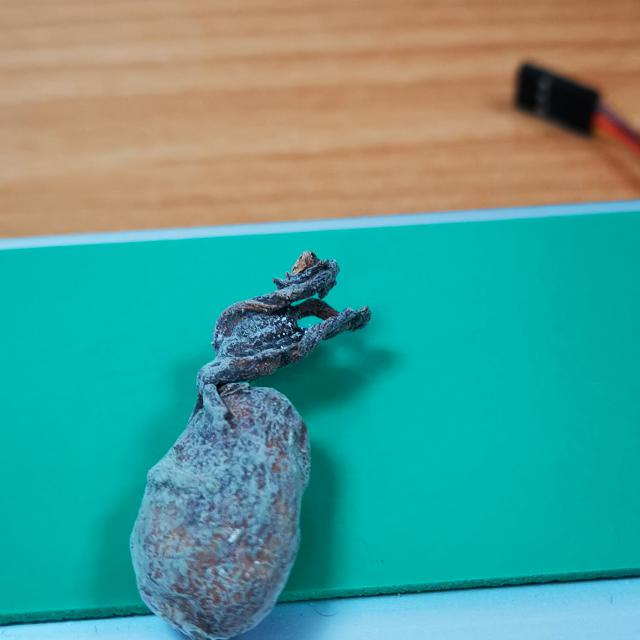Agglomerated_cocoabeans: (56, 223, 437, 640)
